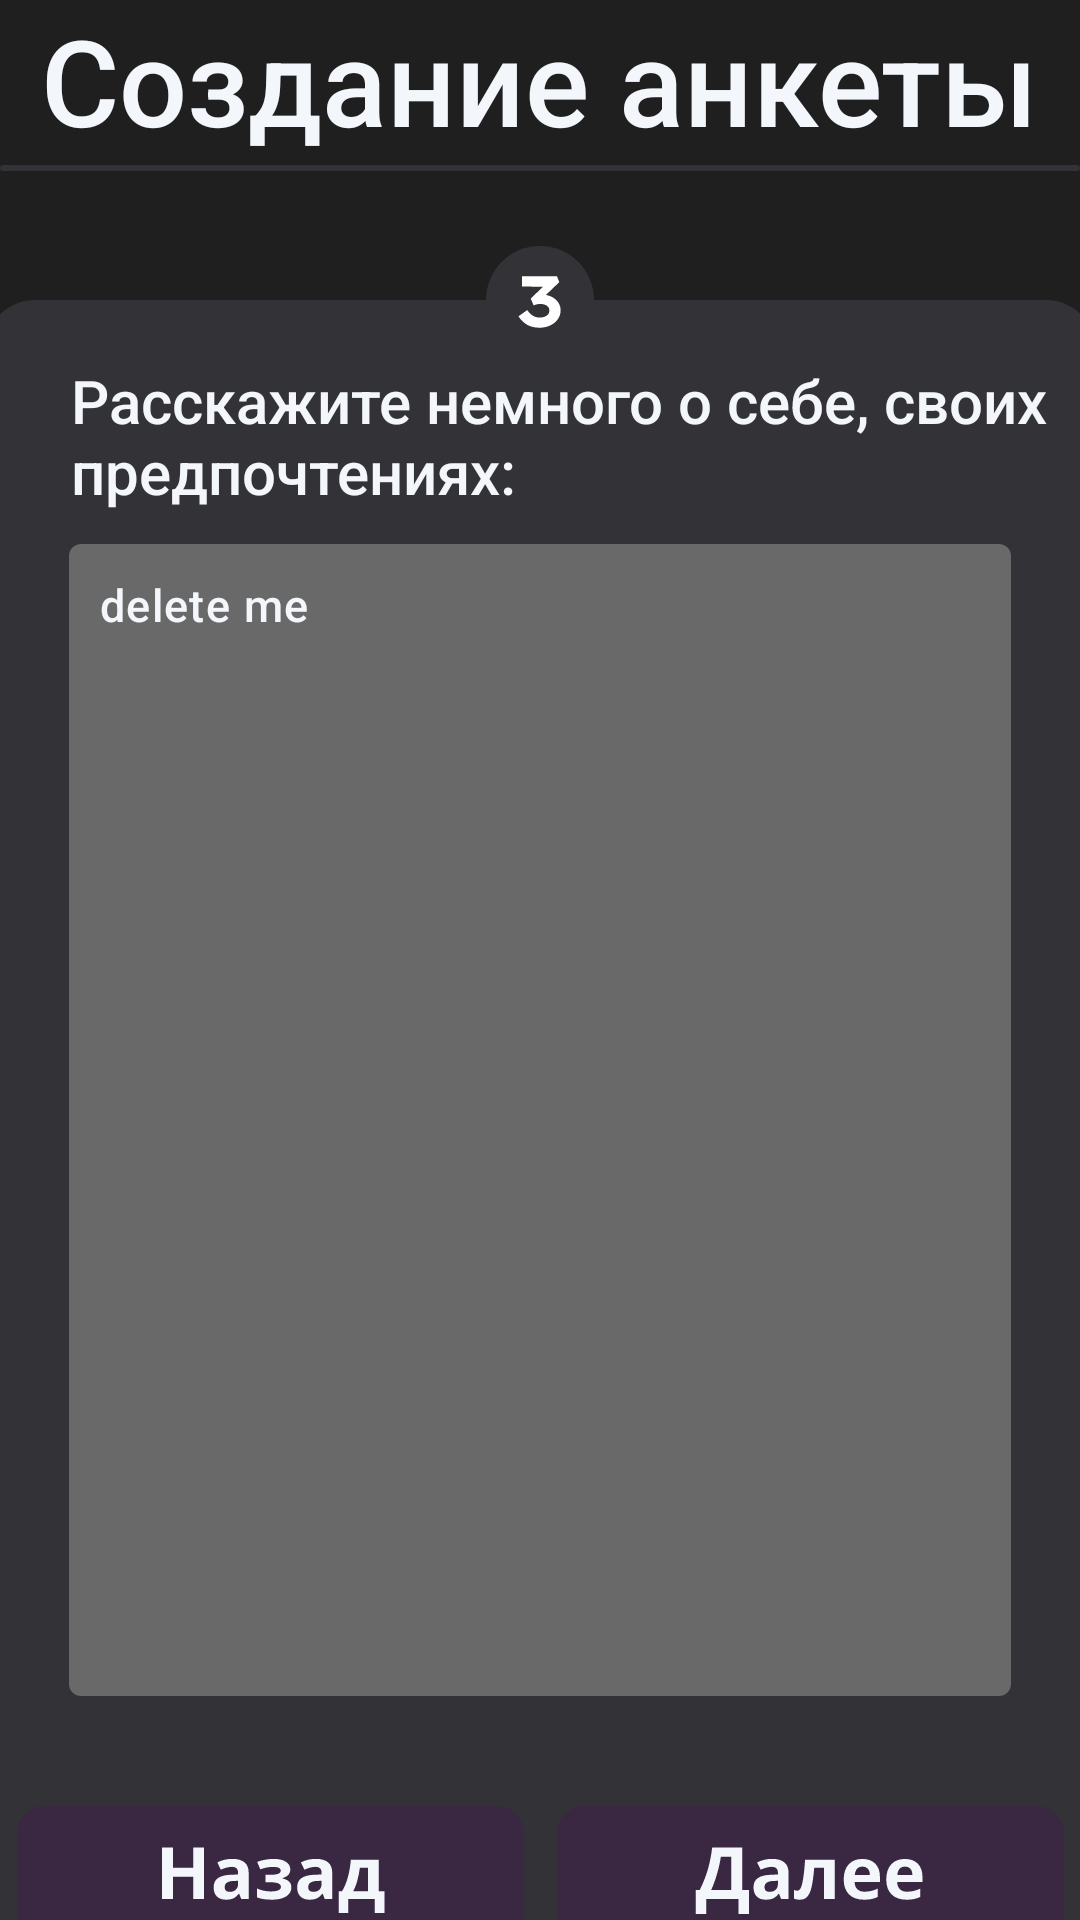

Screen size 1080 × 1920. Icon name, then its center in pixels as point (x, y):
pagenumberimage: point (540, 292)
